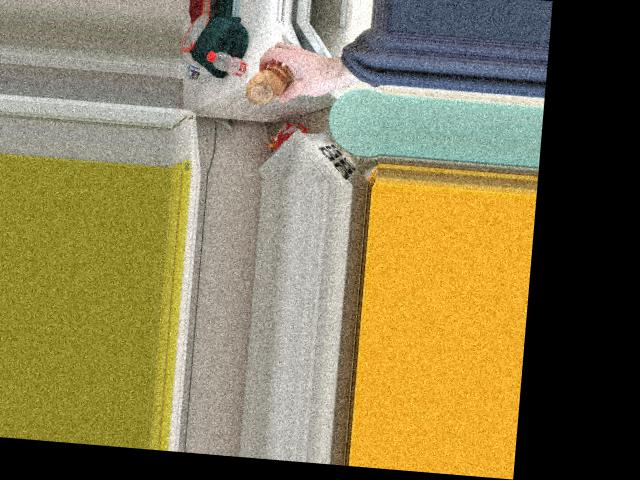sweet_potato: (243, 63, 294, 106)
